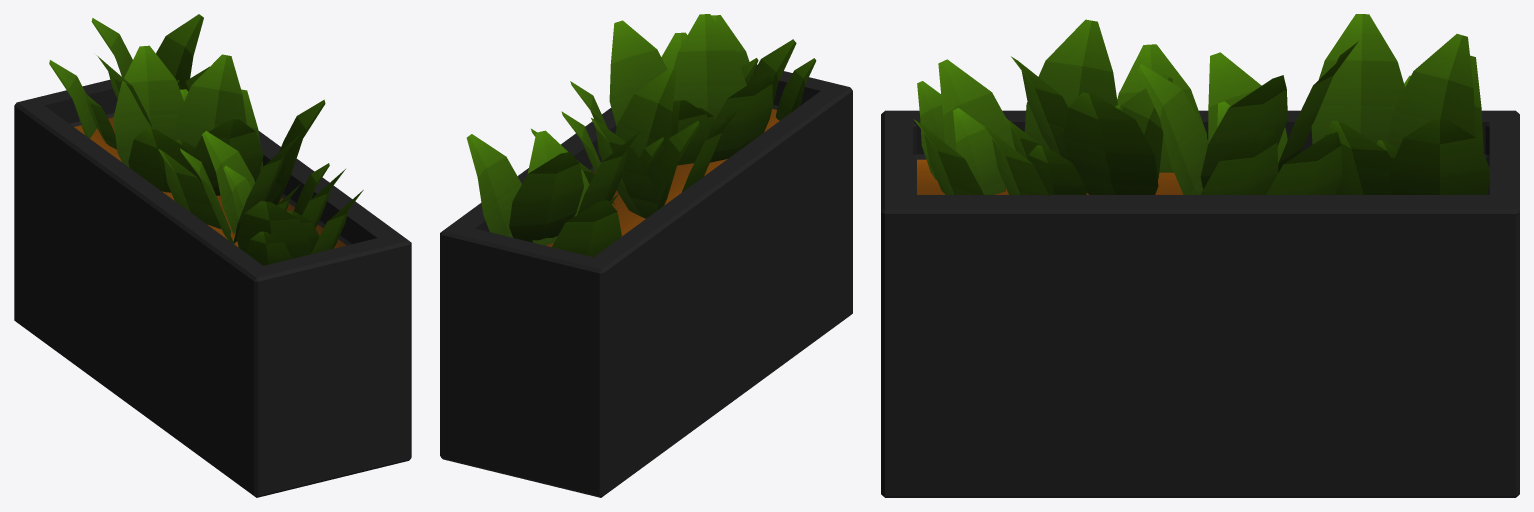
File: SM_Build_PflanzenTop_Schwarz.fbx
The picture shows the model from 3 angles, left to right: view 1: azimuth 30°, elevation 25°; view 2: azimuth 150°, elevation 25°; view 3: azimuth 270°, elevation 25°; orthographic projection. The views are drawn at different scales.
Visible parts, largest first — view 1: PflanzenTop_Schwarz; view 2: PflanzenTop_Schwarz; view 3: PflanzenTop_Schwarz.
Part boxes in pixels (x1,y1,x2,y2): PflanzenTop_Schwarz: [14, 14, 411, 497]; PflanzenTop_Schwarz: [440, 14, 852, 497]; PflanzenTop_Schwarz: [881, 14, 1519, 497].
Size of the model in its own units: 0.603 by 1.11 by 1.6.
